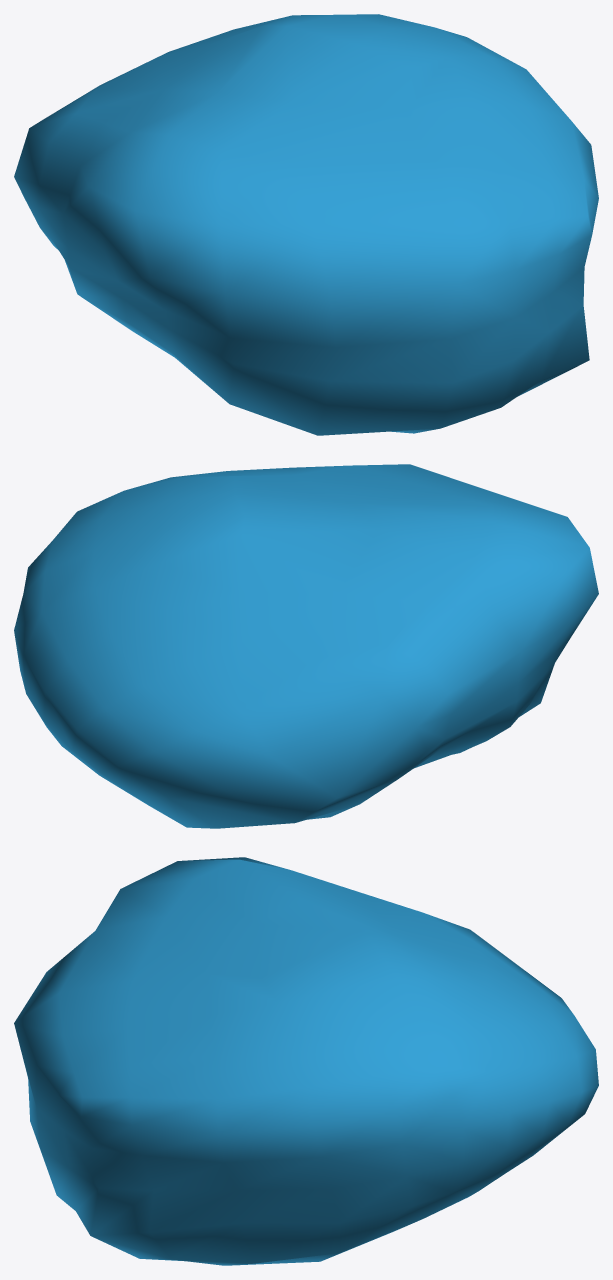
The model's file is Rock_S_06_Lod0.fbx.
3 views of the same model, one above another, from view 1: azimuth 30°, elevation 25°; view 2: azimuth 150°, elevation 25°; view 3: azimuth 270°, elevation 25° (orthographic). The views are drawn at different scales.
Visible parts, largest first — view 1: Rock_S_06_Lod0; view 2: Rock_S_06_Lod0; view 3: Rock_S_06_Lod0.
Boxes of the visible parts, x1,y1,x2,y2 form: Rock_S_06_Lod0: (14, 14, 598, 435); Rock_S_06_Lod0: (14, 464, 598, 828); Rock_S_06_Lod0: (14, 857, 598, 1265).
Size of the model in its own units: 198 by 121 by 223.
